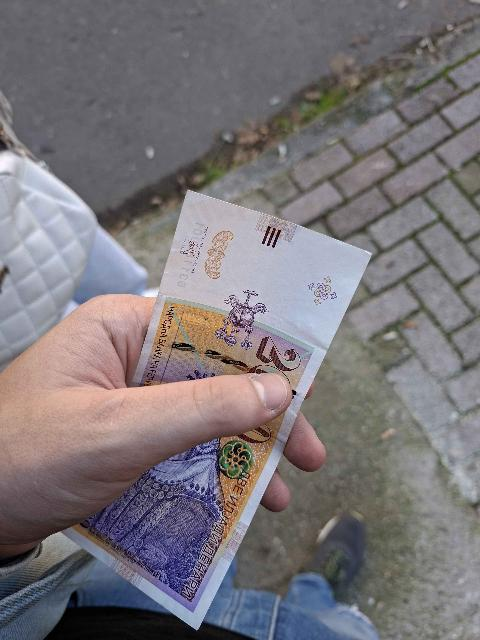2000_note: (64, 192, 369, 628)
